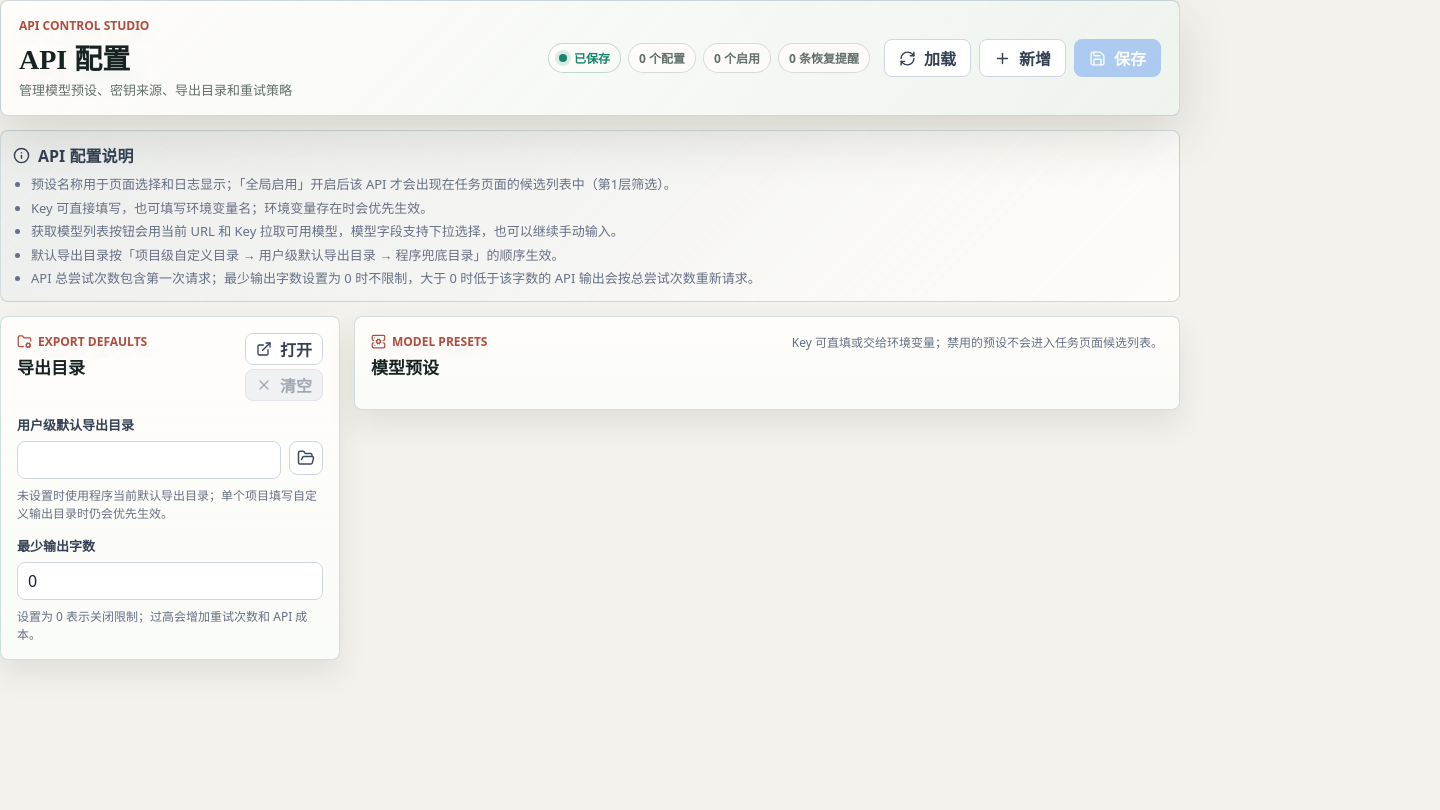
Test: ApiConfigPage › describes max_retries as API total attempts
This screenshot has width=1440, height=810.
Click the button "新增" at (1022, 58), box x1=979 y1=39 x2=1066 y2=77
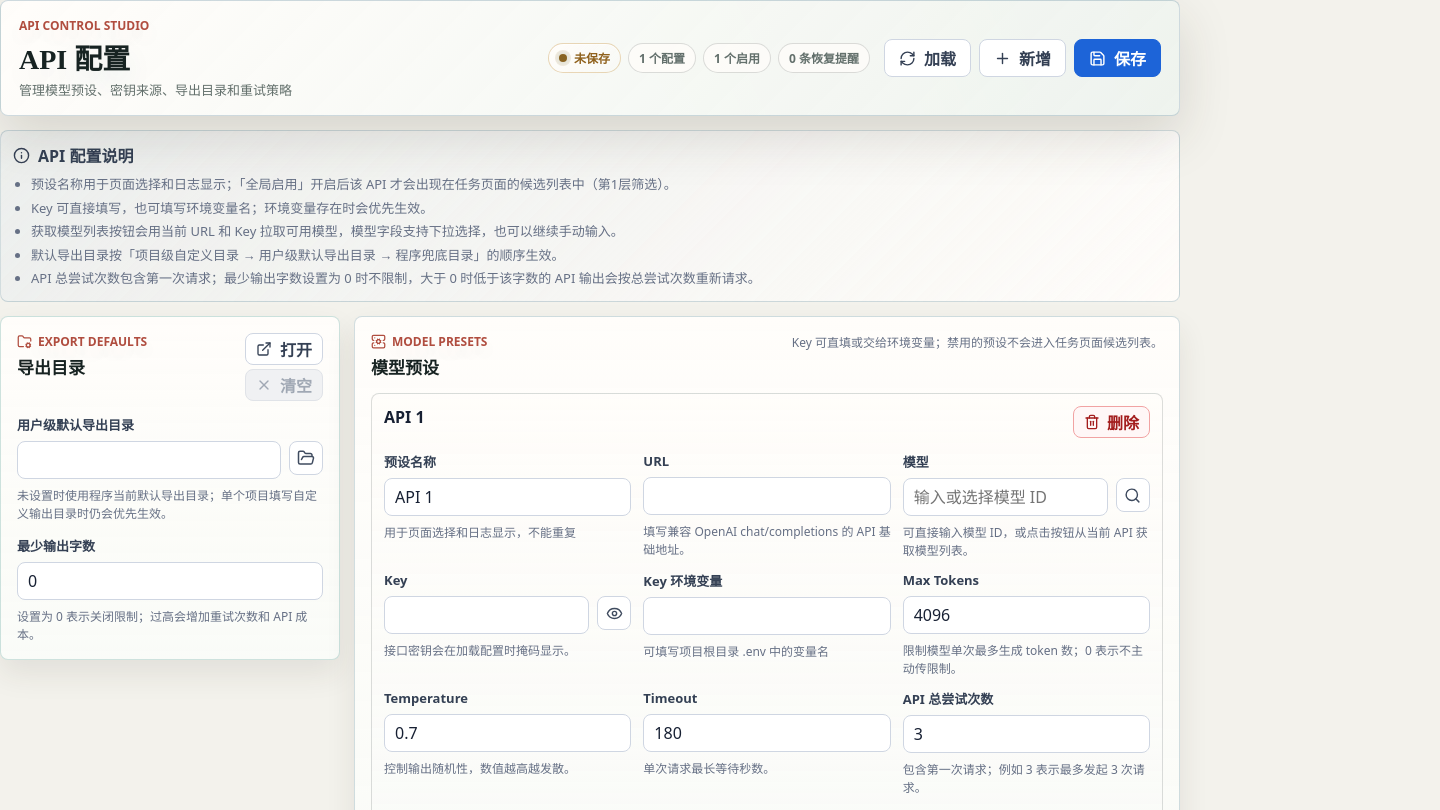
Now the text "API 总尝试次数" is shown, box x1=903 y1=690 x2=993 y2=708
Now the text "包含第一次请求；例如 3 表示最多发起 3 次请求。" is shown, box x1=903 y1=760 x2=1150 y2=796
